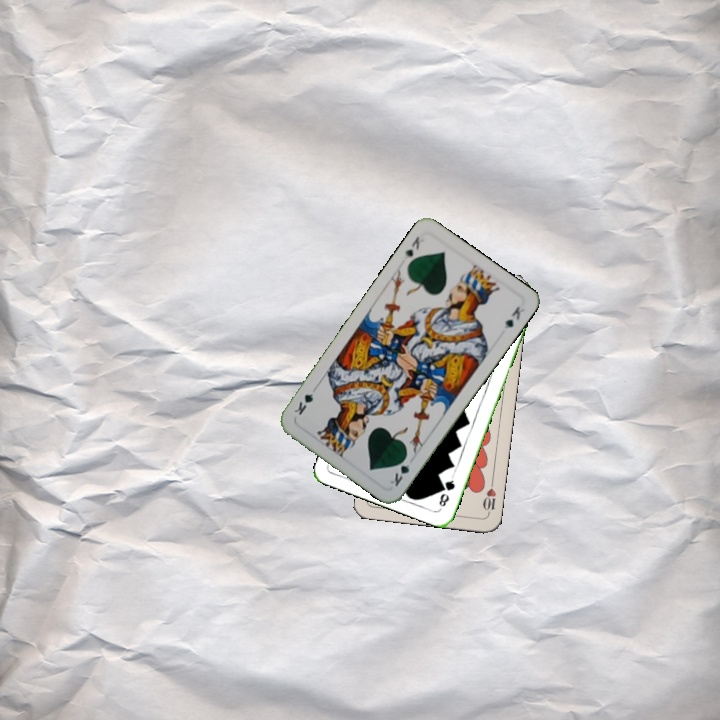G8: (435, 472, 457, 509)
GK: (386, 451, 412, 489), (400, 232, 422, 262)
H10: (479, 477, 499, 517)
